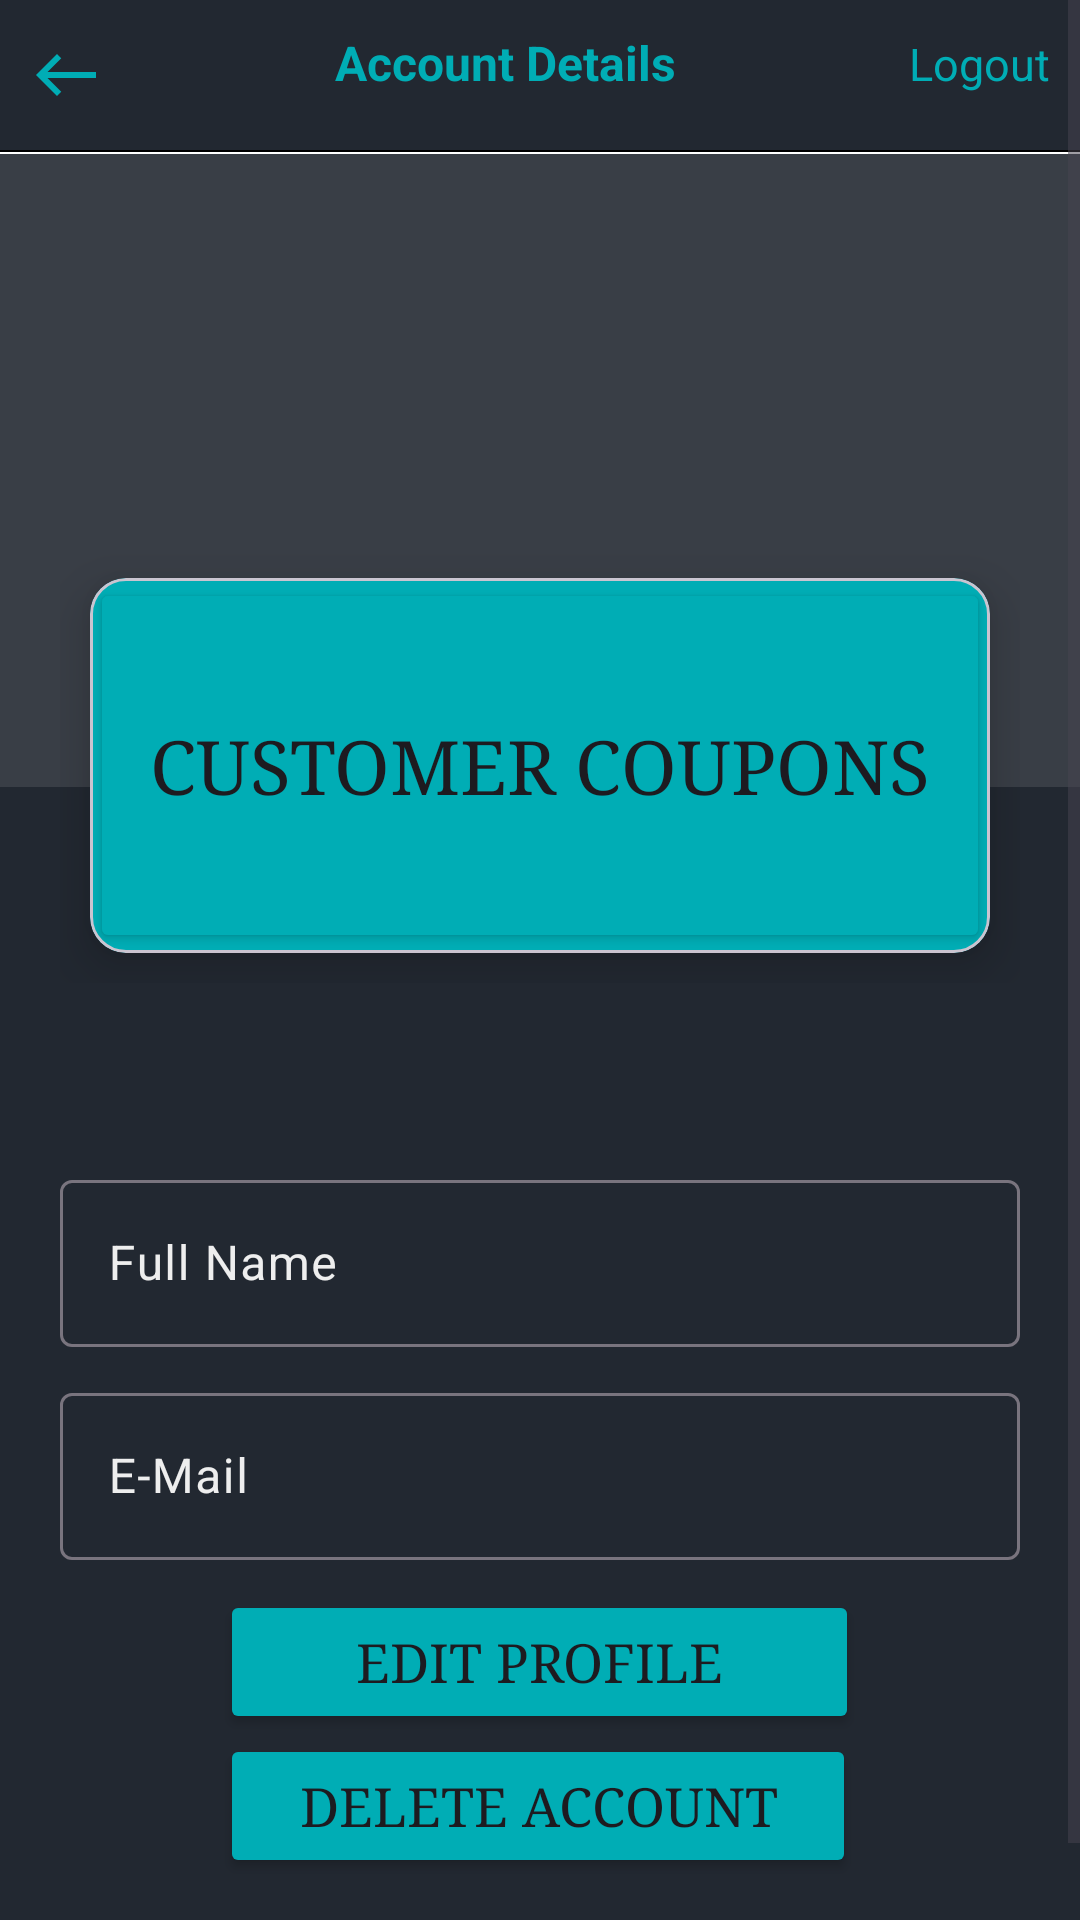

Icons on this 1080 × 1920 Android screen, each with the point to tap as [x,y]:
west: [66,75]
